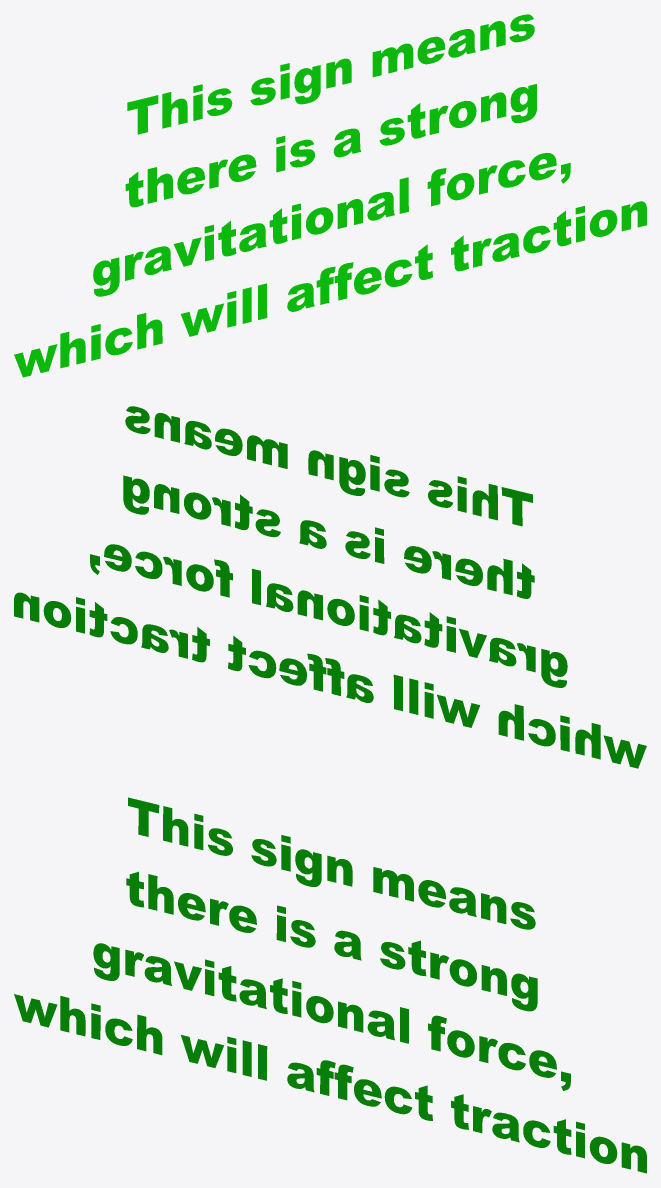
The model's file is tutorial_8.dae.
3 views of the same model, one above another, from view 1: azimuth 30°, elevation 25°; view 2: azimuth 150°, elevation 25°; view 3: azimuth 330°, elevation 25° (orthographic).
Visible parts, largest first — view 1: This_sign_means_ (×29); view 2: This_sign_means_ (×30); view 3: This_sign_means_ (×27).
Boxes of the visible parts, <box> form: This_sign_means_ (×29): <box>14,21,646,377</box>; This_sign_means_ (×30): <box>14,413,646,768</box>; This_sign_means_ (×27): <box>14,797,646,1173</box>.
Size of the model in its own units: 3772 by 5.37 by 1421.
